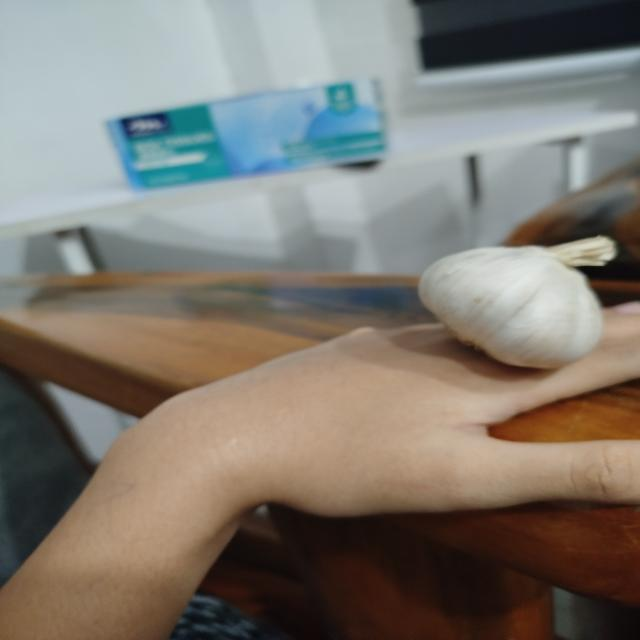garlic: (416, 233, 618, 369)
